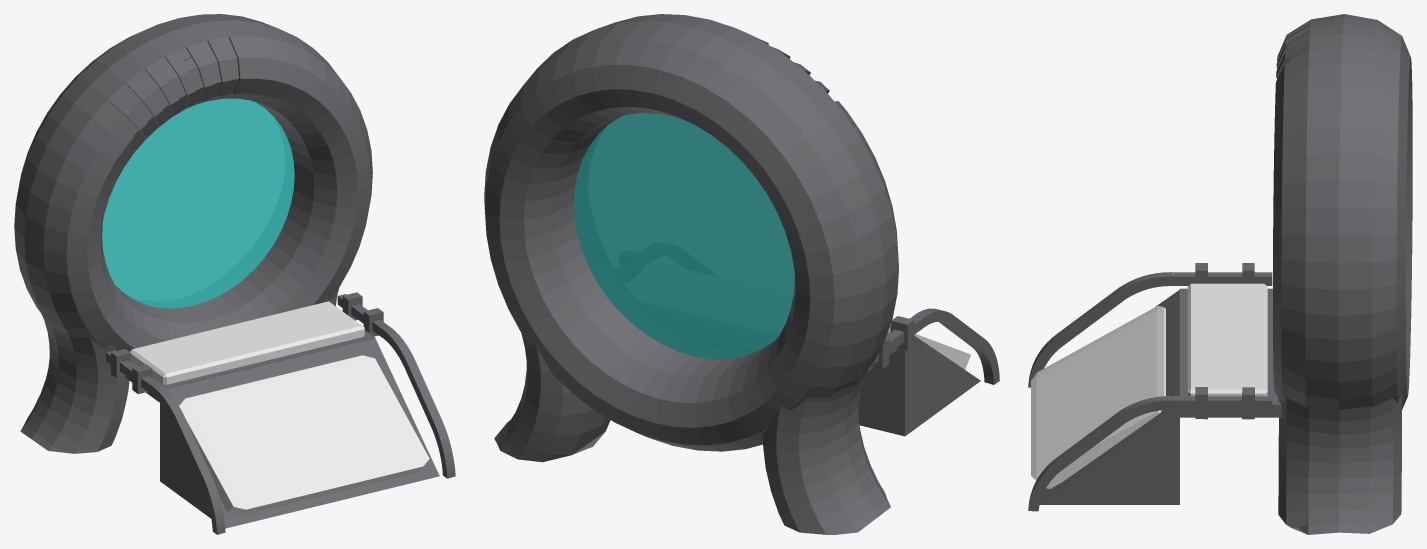
File: futuristic portal.fbx
3 views of the same model, side by side, from view 1: azimuth 30°, elevation 25°; view 2: azimuth 150°, elevation 25°; view 3: azimuth 270°, elevation 25° (orthographic). The views are drawn at different scales.
Visible parts, largest first — view 1: Torus, Plane.002, Cube.004, Cube.016, Torus.003, Cube.003, Cube.010, Cube.009, Cube.015; view 2: Torus, Plane.002, Torus.003, Cube.003, Torus.002, Cube.010, Cube.004; view 3: Torus, Torus.002, Cube.004, Cube.003, Cube.016, Cube.009, Cube.010, Cube.015, Cube.005, Cube.013.
Part boxes in pixels (box(x1,y1,x2,y2)): Torus: box(14, 14, 372, 351); Plane.002: box(102, 98, 294, 308); Cube.004: box(179, 355, 429, 515); Cube.016: box(130, 301, 364, 384); Torus.003: box(20, 314, 129, 453); Cube.003: box(160, 338, 439, 528); Cube.010: box(151, 383, 225, 534); Cube.009: box(382, 327, 455, 478); Cube.015: box(110, 330, 374, 402); Torus: box(484, 14, 898, 451); Plane.002: box(574, 113, 794, 359); Torus.003: box(762, 370, 890, 534); Cube.003: box(858, 336, 980, 436); Torus.002: box(494, 333, 610, 462); Cube.010: box(913, 308, 999, 384); Cube.004: box(914, 334, 970, 369); Torus: box(1273, 14, 1412, 409); Torus.002: box(1278, 394, 1401, 534); Cube.004: box(1031, 306, 1165, 488); Cube.003: box(1039, 290, 1179, 504); Cube.016: box(1187, 283, 1267, 396); Cube.009: box(1028, 396, 1172, 511); Cube.010: box(1028, 272, 1172, 387); Cube.015: box(1179, 288, 1282, 417); Cube.005: box(1173, 396, 1272, 410); Cube.013: box(1173, 272, 1272, 285).
Size of the model in its own units: 7773 by 8439 by 7039.
